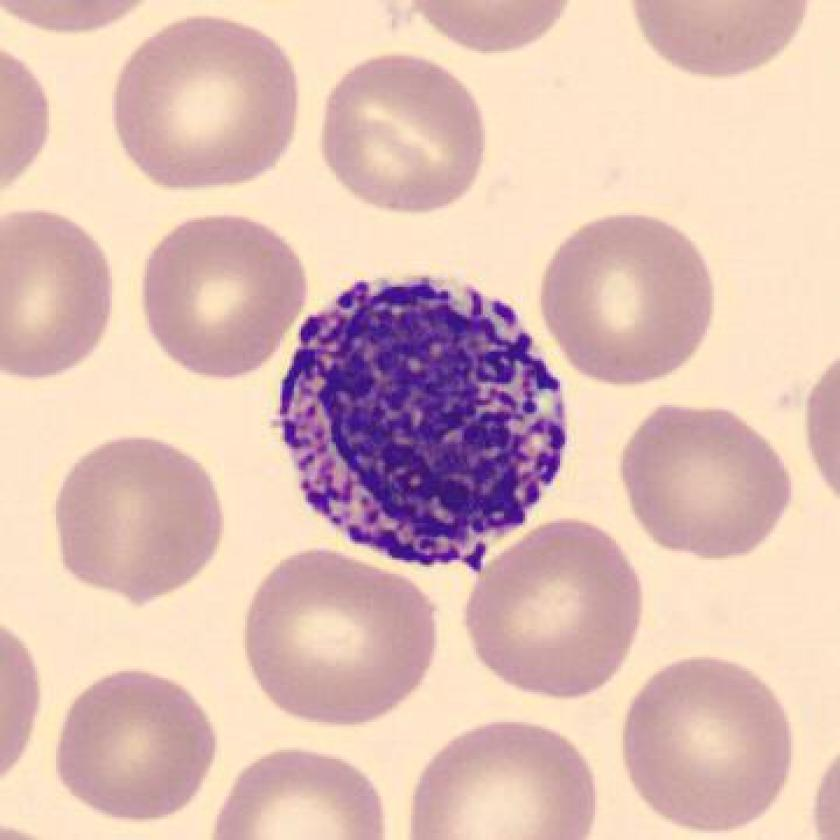basophil: (272, 270, 570, 578)
